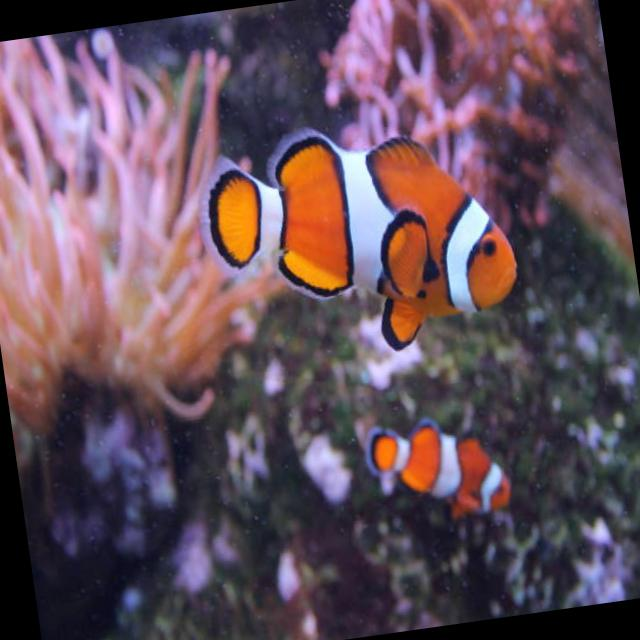ClownFish: (195, 95, 526, 372), (360, 396, 514, 532)
